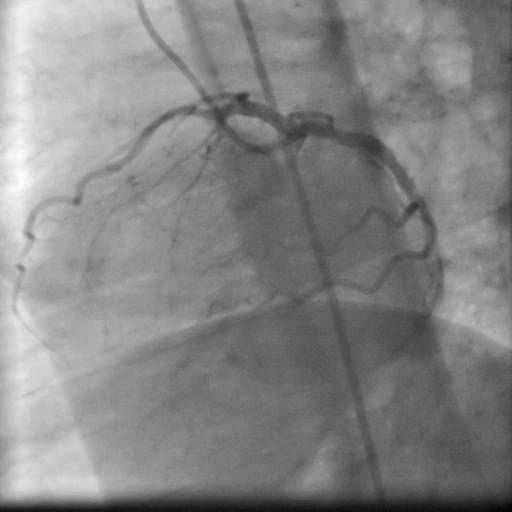Stenosis: (402, 186, 420, 199)
